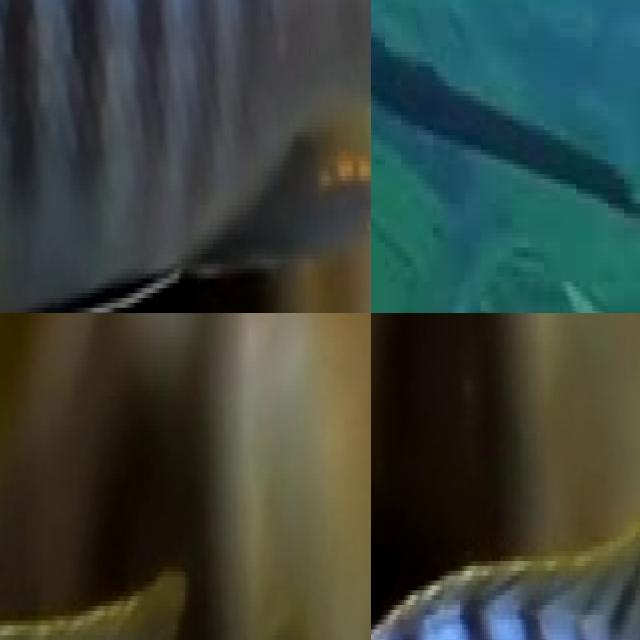fish: (0, 0, 371, 313), (0, 542, 356, 640)
